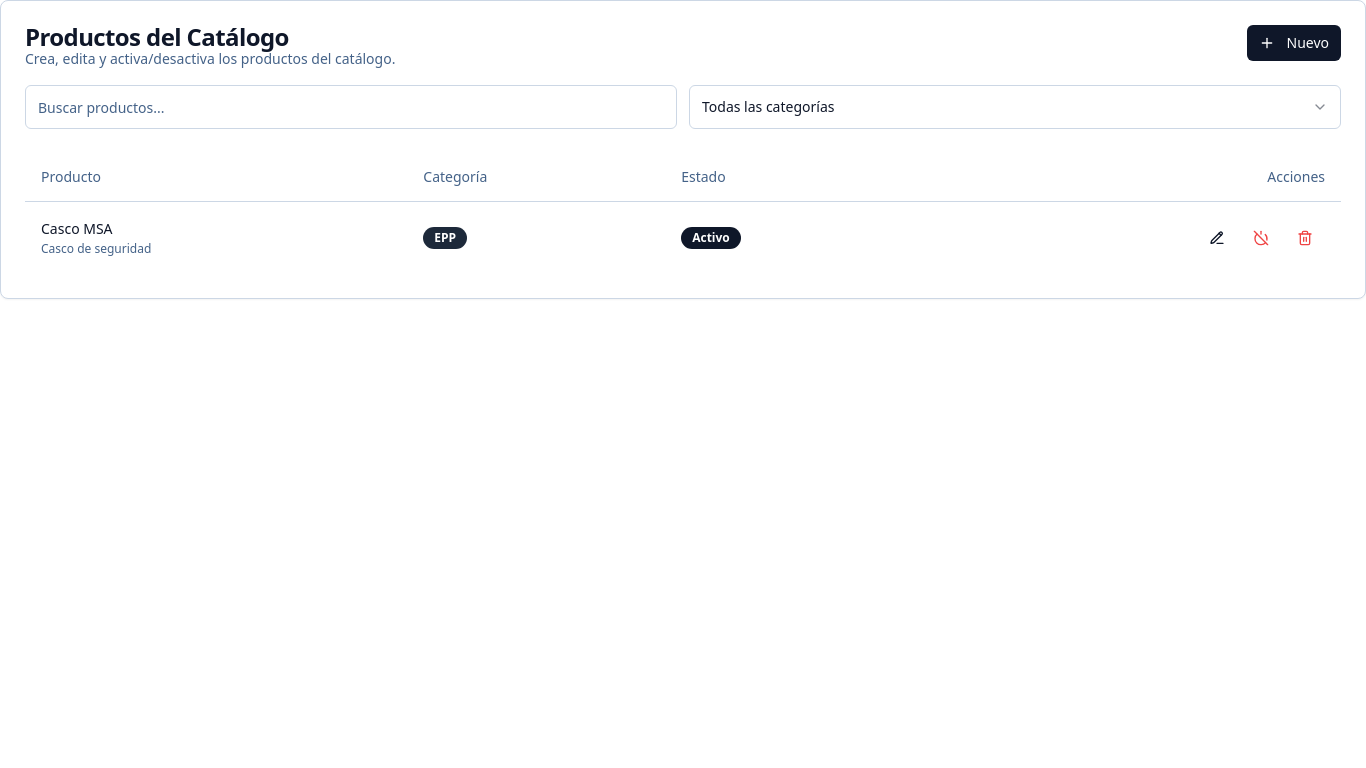
HU-5.2: Product edit defers physical image deletion › keeps image persisted when cancelling edit dialog after pending delete
Expected: the text "Casco MSA" is shown, [41, 218, 113, 238]
What coordinates should you click on to do the following:
click the button named "editar casco msa"
I would click on:
 (1217, 238)
Its box is [1197, 218, 1237, 258].
(page scrolled)
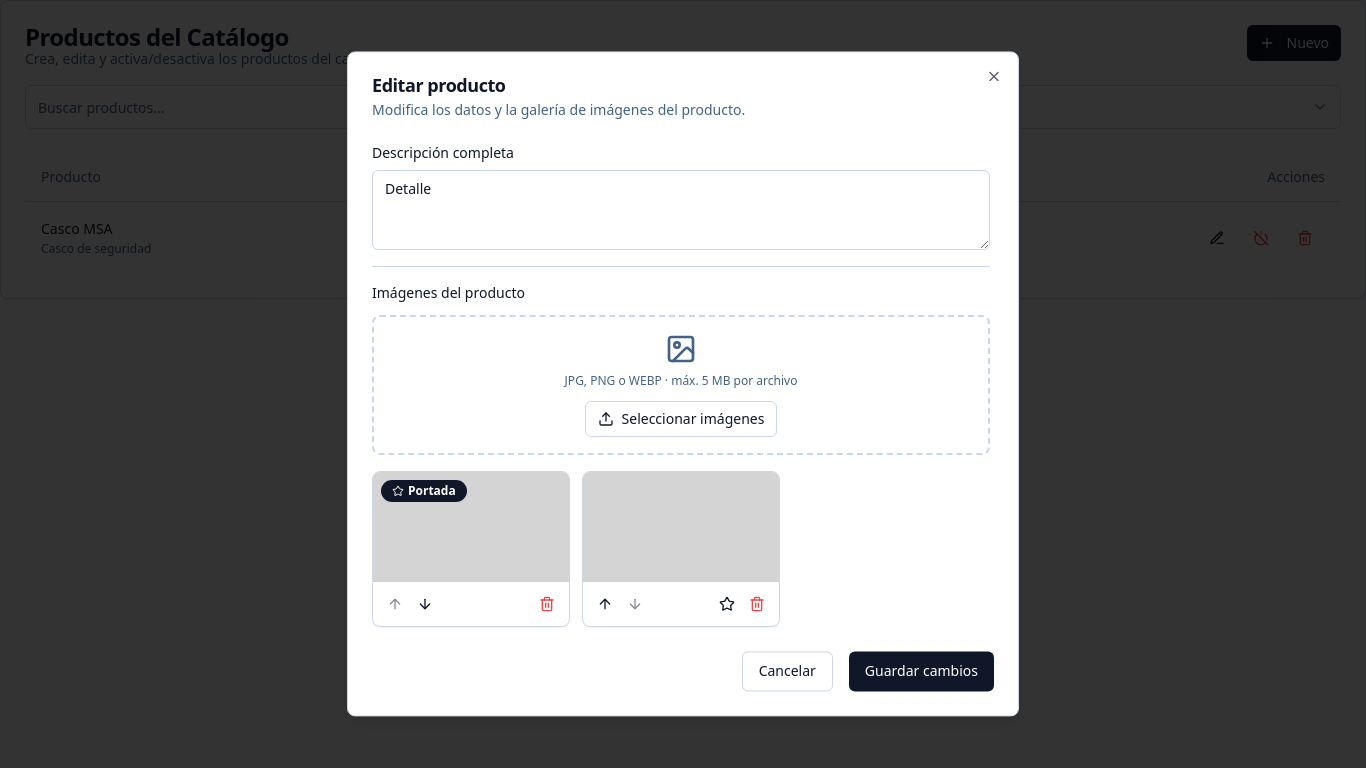
What coordinates should you click on to do the following:
click the button named "eliminar imagen 1"
I would click on:
 (547, 605)
Its box is [533, 591, 561, 619].
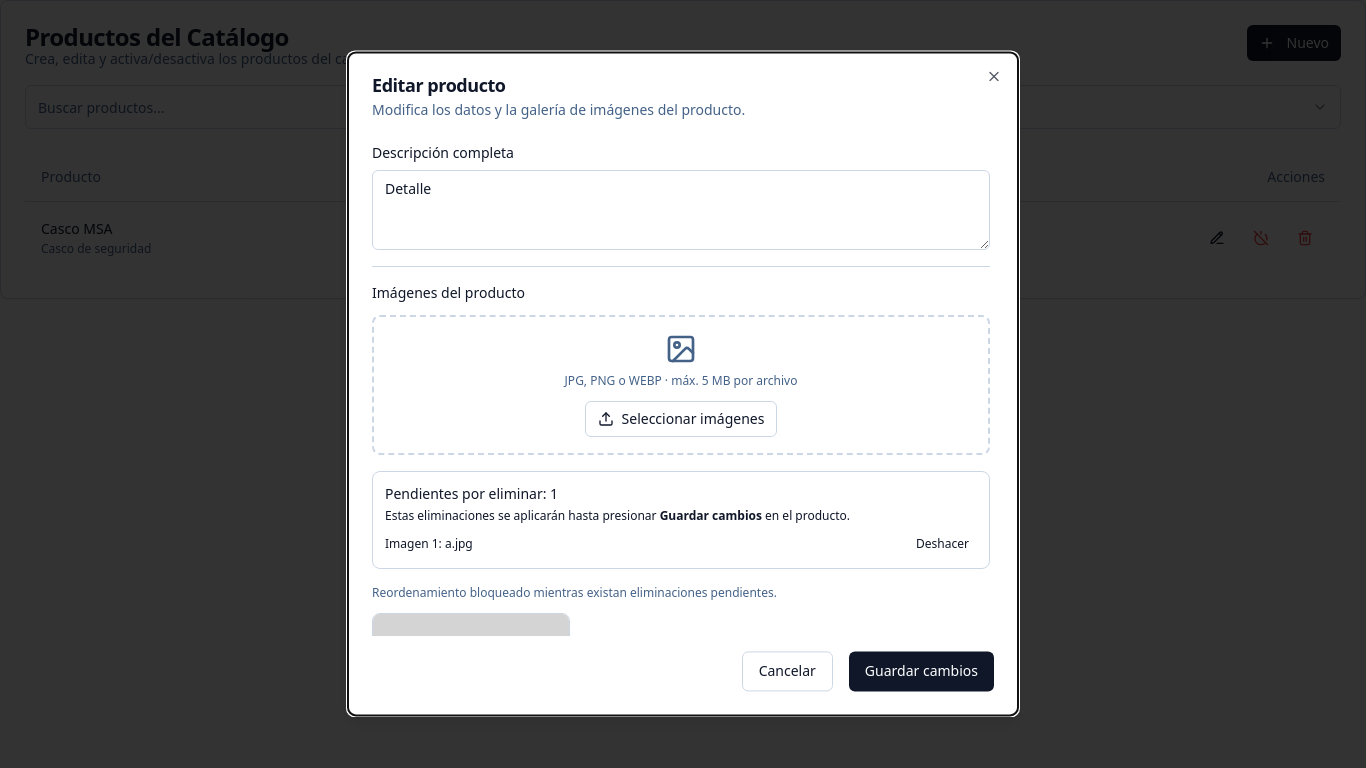
What coordinates should you click on to do the following:
click the button "Cancelar"
I would click on:
 (787, 672)
Its box is [742, 652, 833, 692].
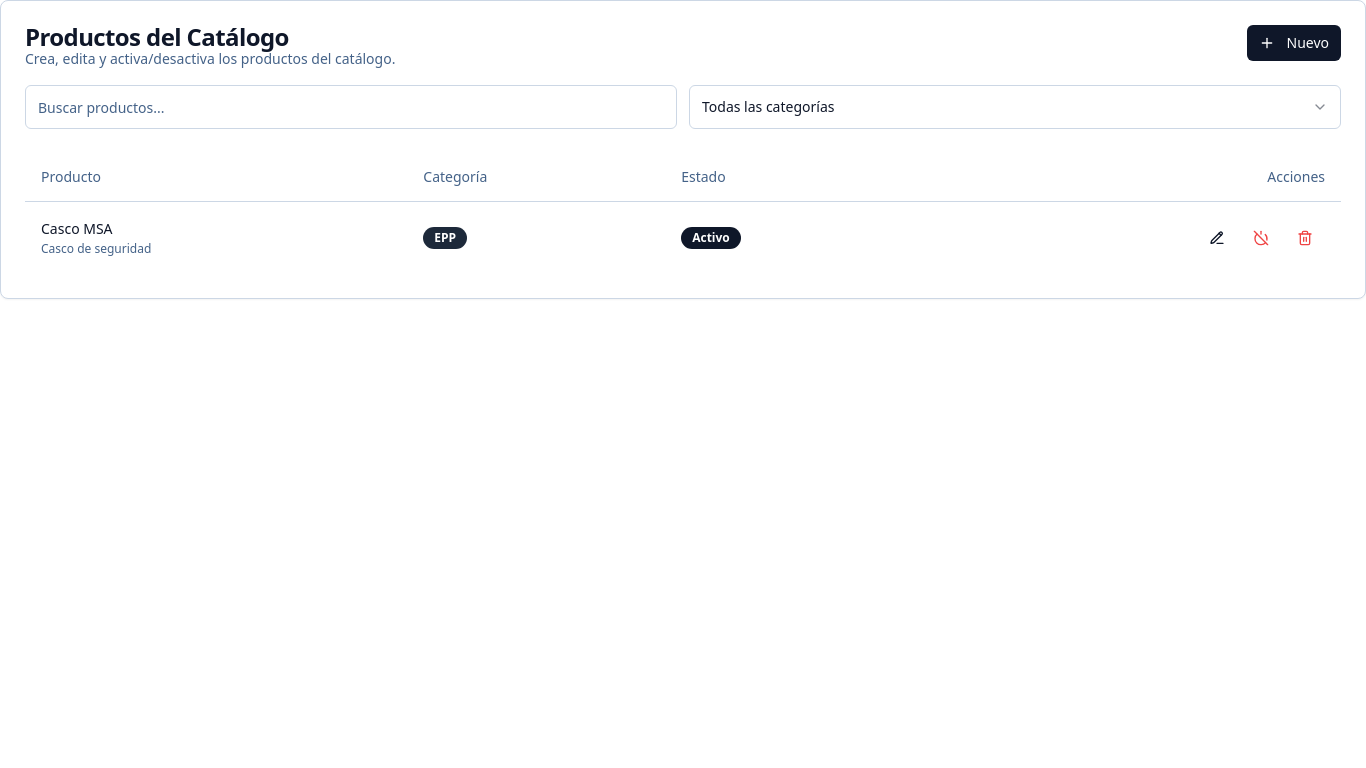
Expected: the dialog is gone
